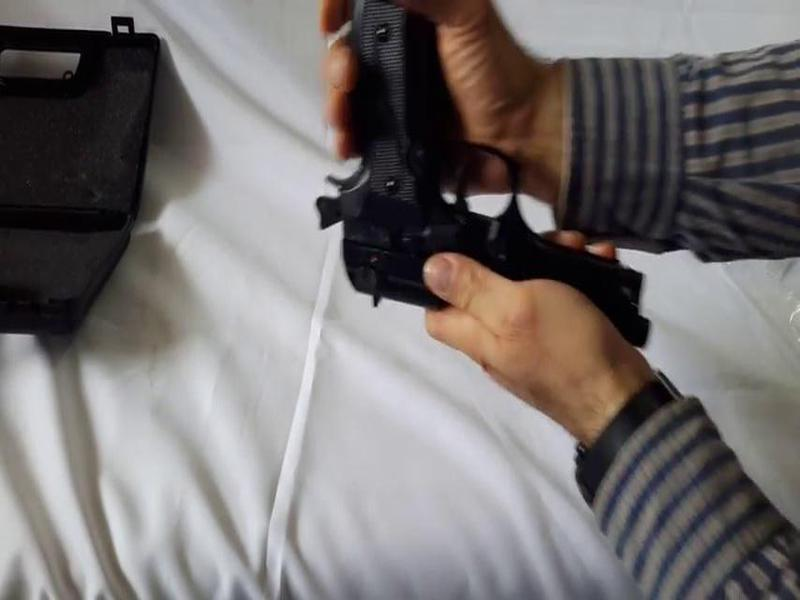Pistola: (308, 10, 667, 382)
